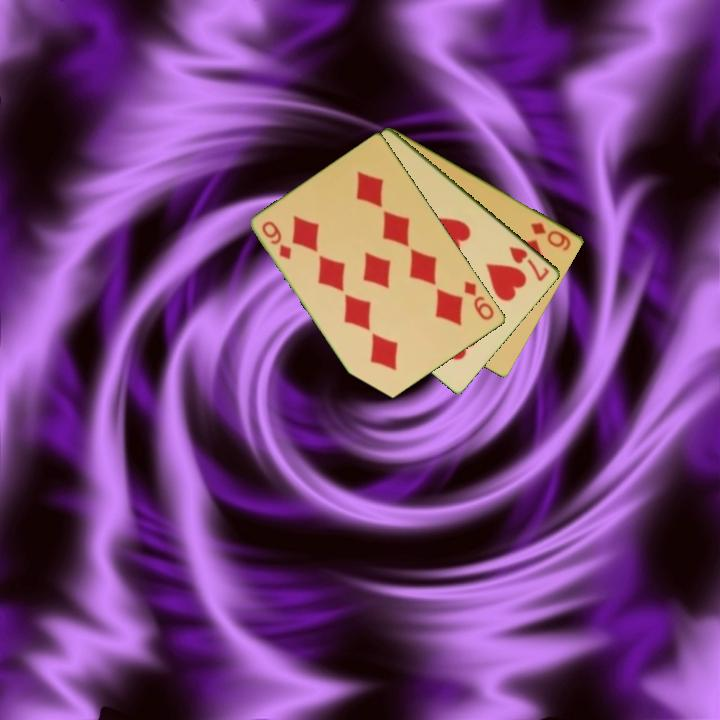6d: (527, 219, 574, 254)
7h: (506, 243, 553, 284)
9d: (461, 277, 498, 323), (258, 217, 295, 263)
